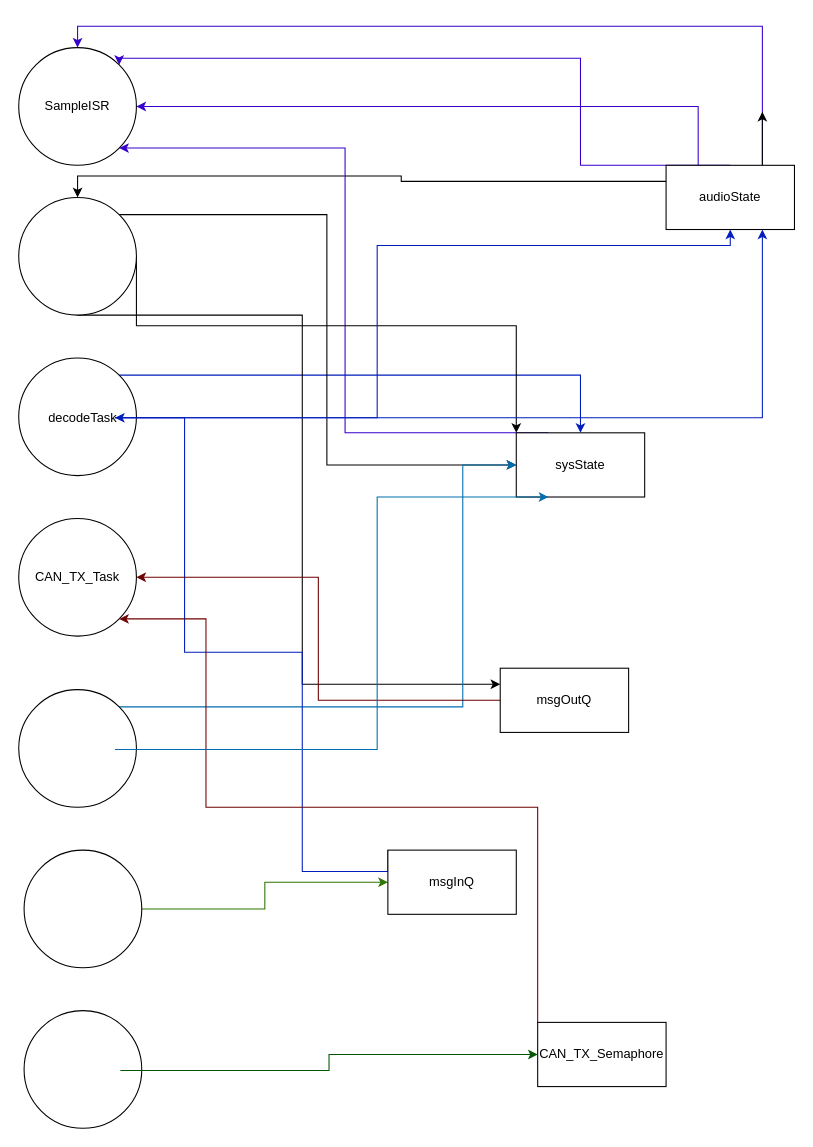
Image size: 813x1147. Some labels were removed from this diagram. Here are the shapes that lost their labels. From the top down, the centre of each, then its label:
pixel 77 255: scanKeysTask
pixel 77 748: DisplayUpdateTask
pixel 82 908: CAN_RX_ISR
pixel 82 1069: CAN_TX_ISR
